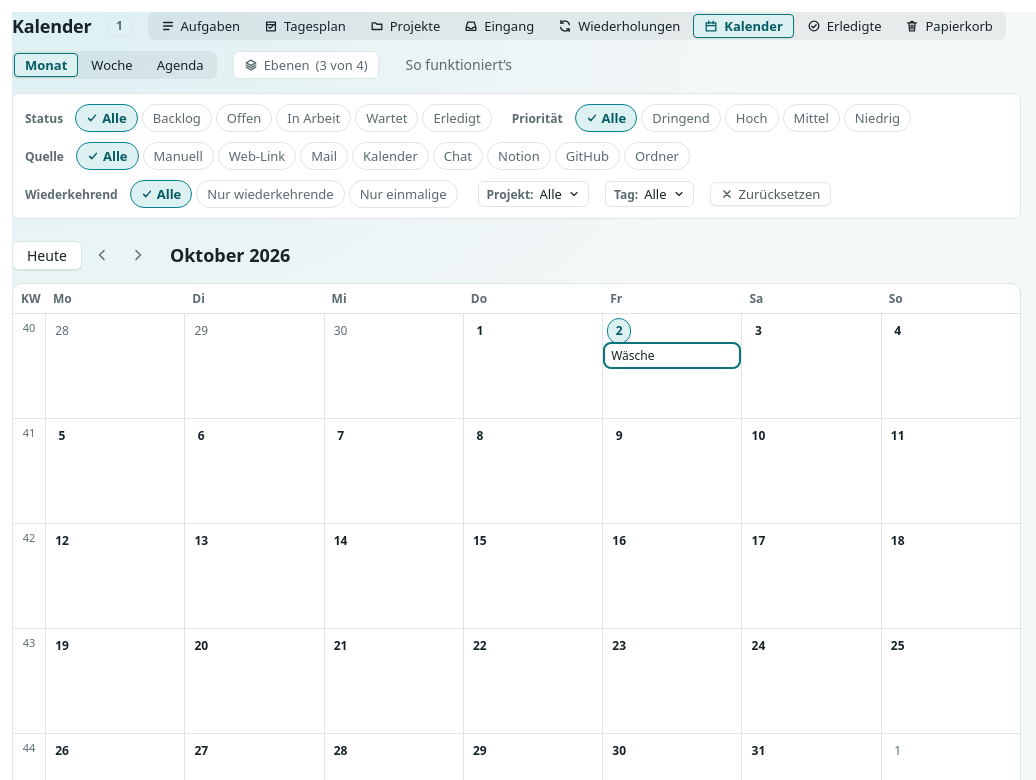
Test case: moving with the keyboard › cancels with Escape or "Abbrechen" and gives the focus back to the entry
Press m in the link "Wäsche", box x1=610 y1=346 x2=688 y2=372
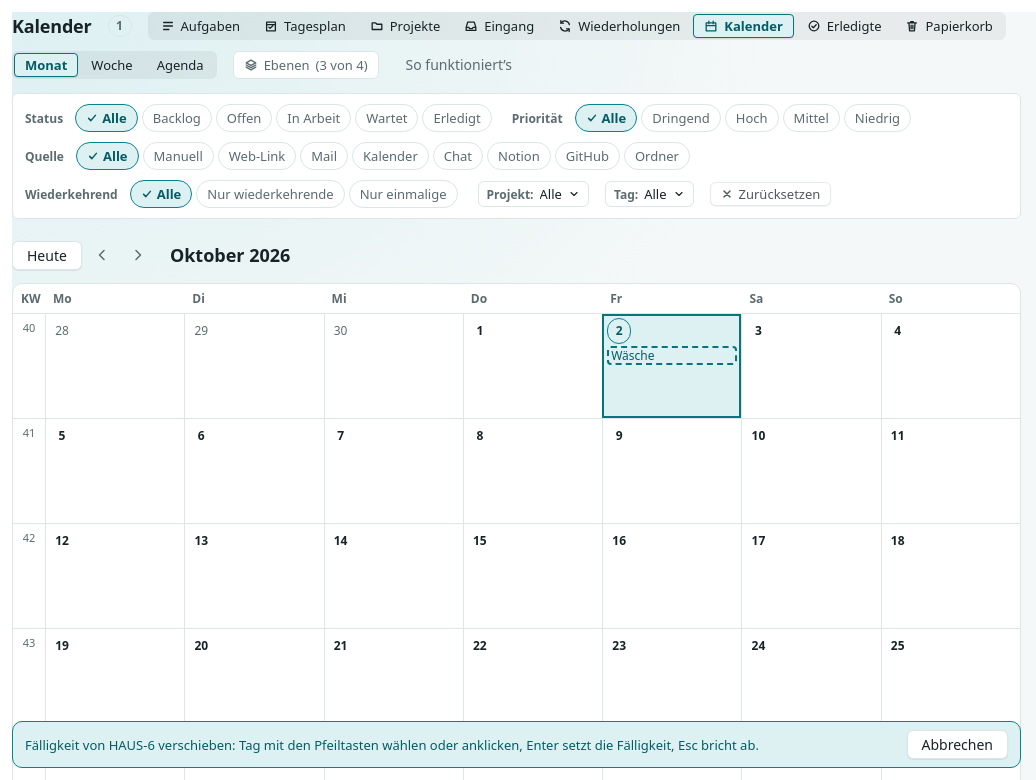
Press ArrowRight in the cell "2 Wäsche", box x1=602 y1=314 x2=741 y2=418
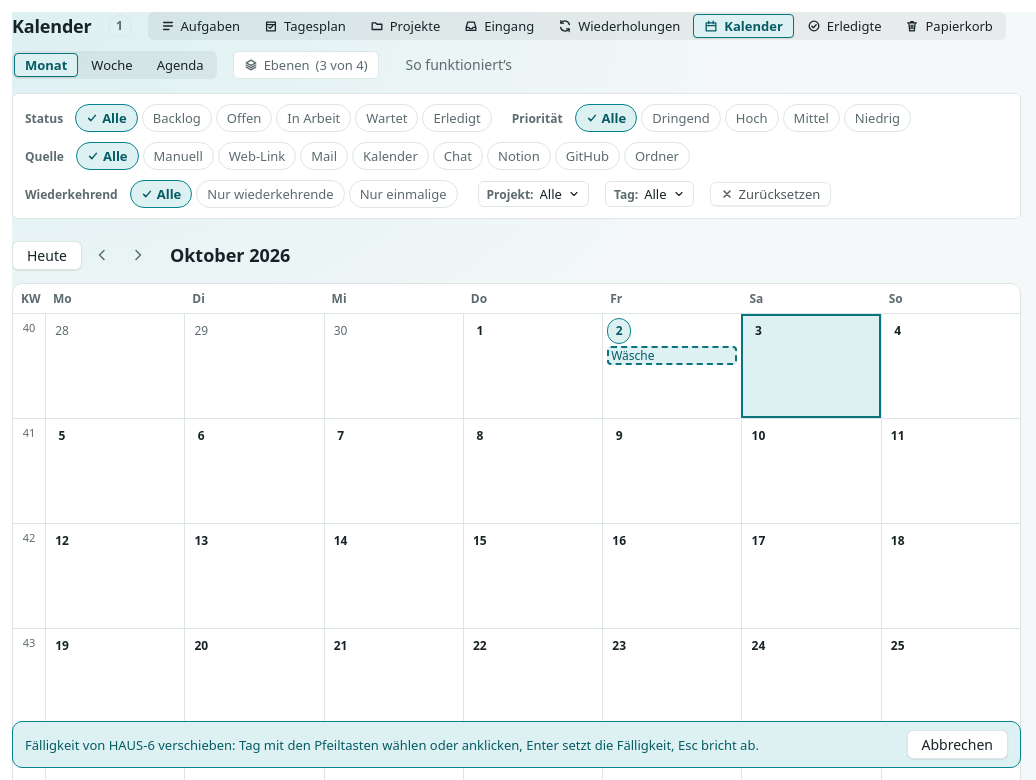
Press Escape in the cell "3", box x1=741 y1=314 x2=881 y2=418
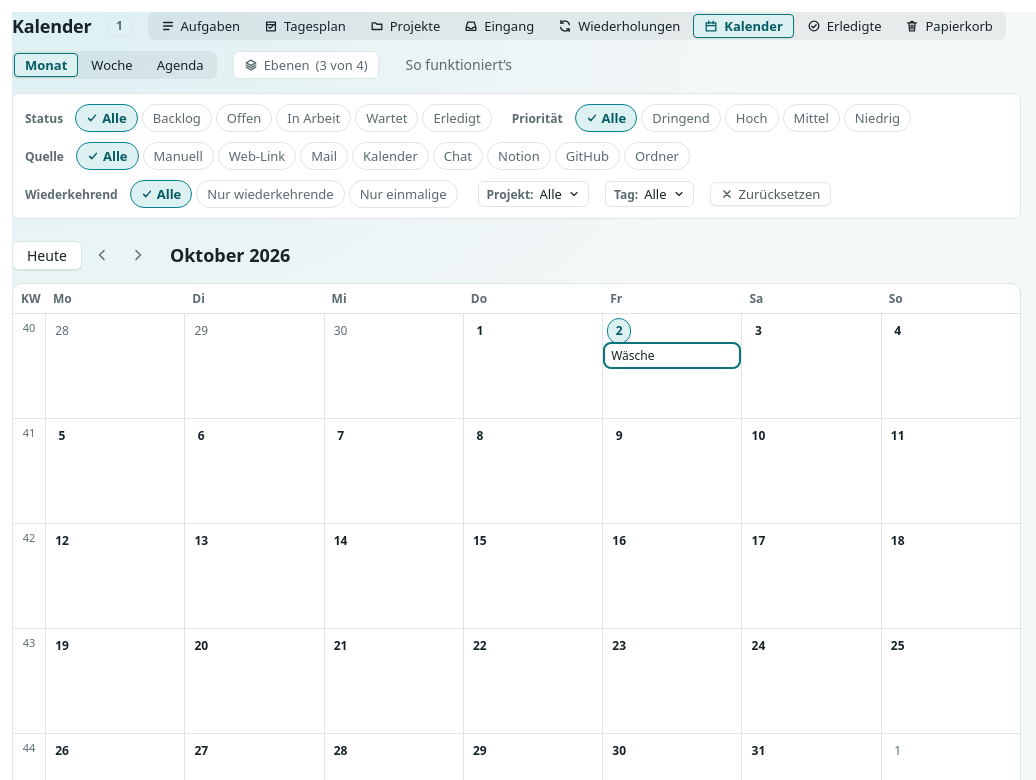
Press m in the link "Wäsche", box x1=610 y1=346 x2=688 y2=372
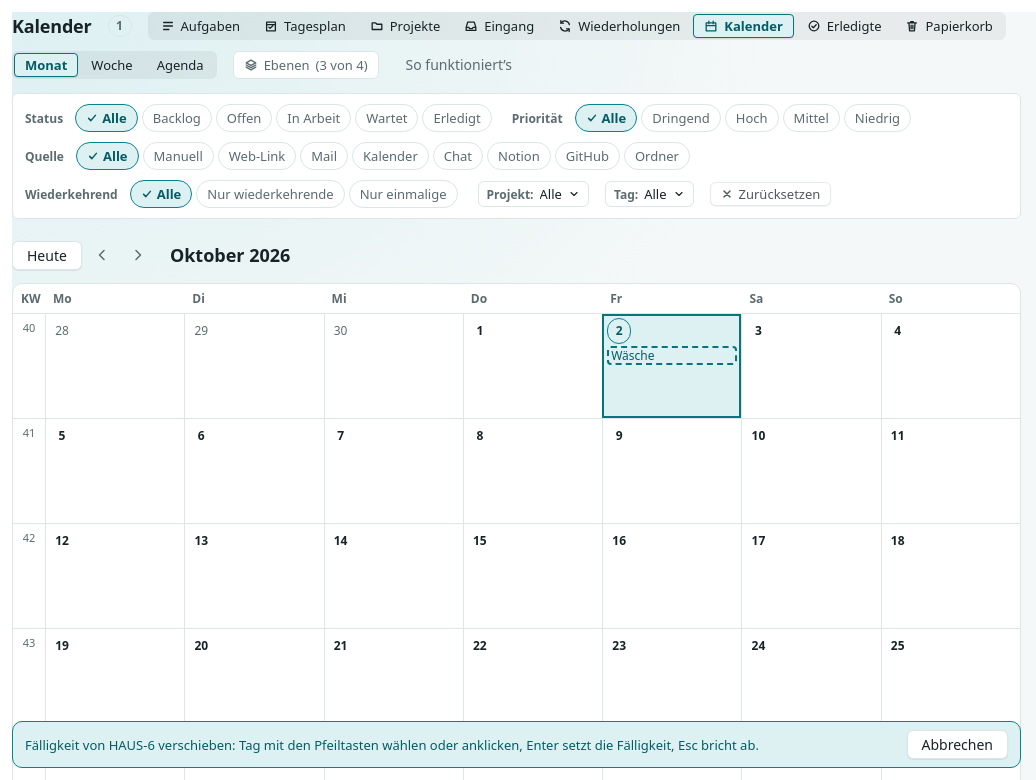
Click the button "Abbrechen" at (957, 744), box x1=906 y1=730 x2=1008 y2=759
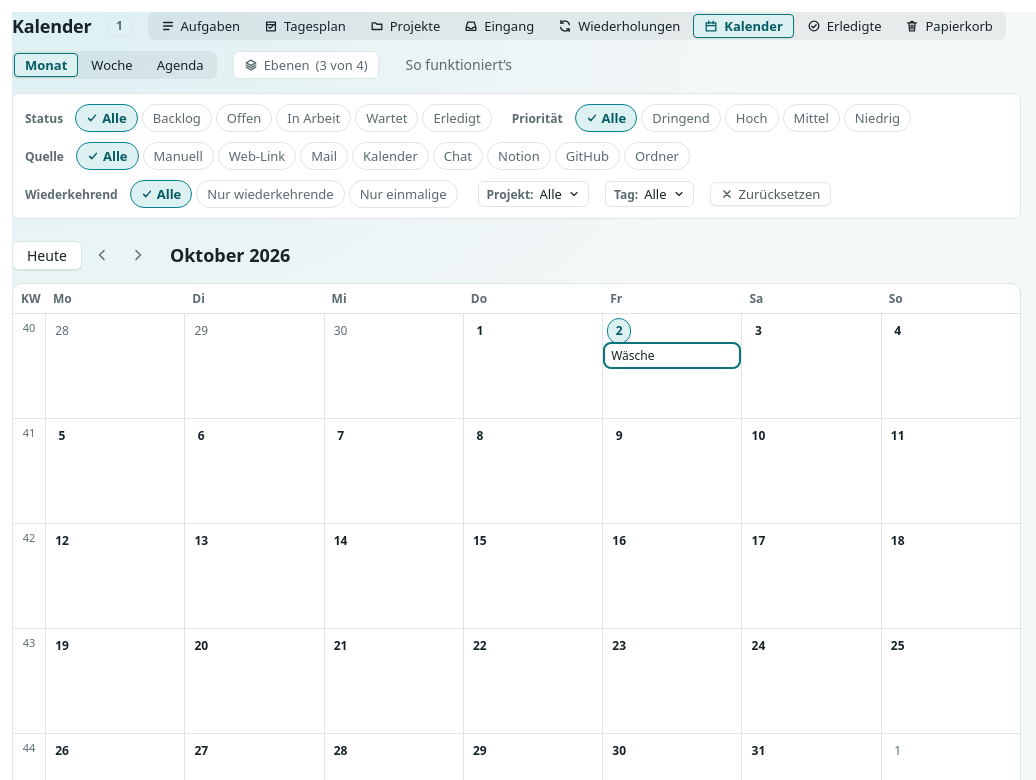
Result: the button "Abbrechen" is gone
